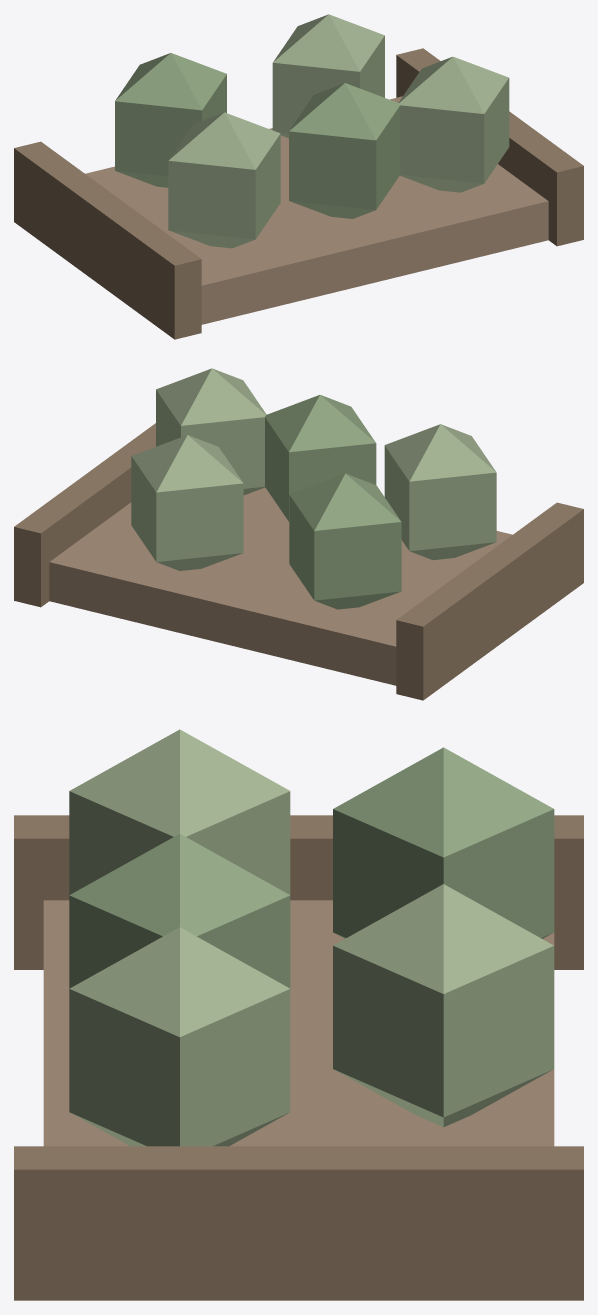
File: herb-bed.glb
The picture shows the model from 3 angles, top to bottom: view 1: azimuth 30°, elevation 25°; view 2: azimuth 150°, elevation 25°; view 3: azimuth 270°, elevation 25°; orthographic projection. The views are drawn at different scales.
Visible parts, largest first — view 1: herb_bed; view 2: herb_bed; view 3: herb_bed.
Boxes of the visible parts, x1,y1,x2,y2 form: herb_bed: [14, 14, 583, 339]; herb_bed: [14, 368, 583, 700]; herb_bed: [14, 729, 583, 1300].
Size of the model in its own units: 0.3283 by 0.13 by 0.2233.
